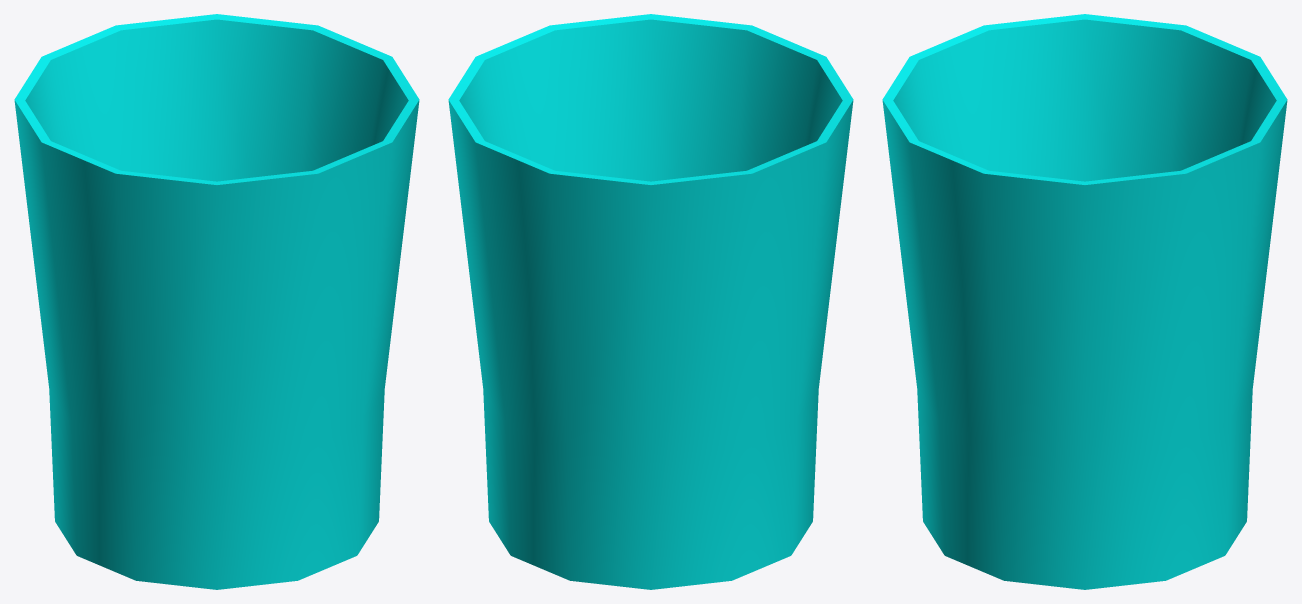
Rendered from Shot_Glass.fbx.
3 views of the same model, side by side, from view 1: azimuth 30°, elevation 25°; view 2: azimuth 150°, elevation 25°; view 3: azimuth 270°, elevation 25° (orthographic).
Parts seen in each view (by area): view 1: ShotGlass; view 2: ShotGlass; view 3: ShotGlass.
Part boxes in pixels (box(x1,y1,x2,y2)): ShotGlass: box(14, 14, 419, 589); ShotGlass: box(448, 14, 853, 589); ShotGlass: box(882, 14, 1287, 589).
Size of the model in its own units: 3.75 by 4.31 by 3.75.
